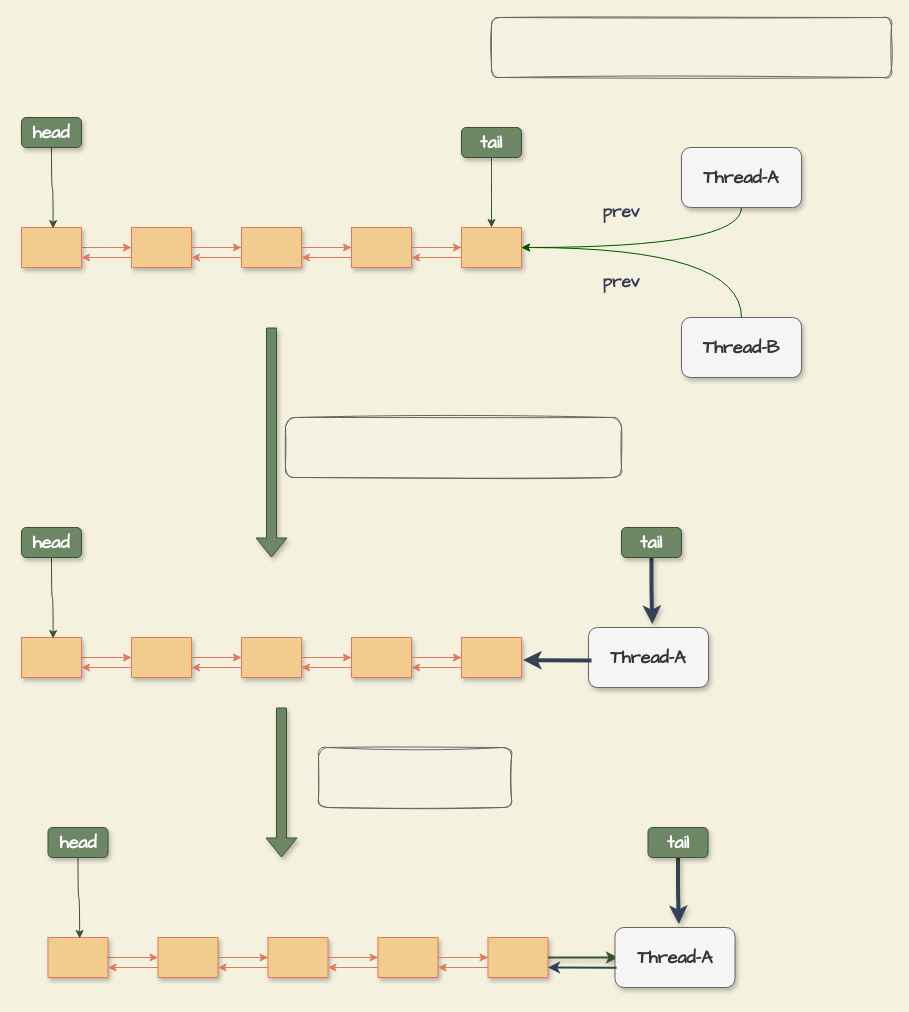
Image size: 909x1012. Some labels were removed from this diagram. The shapes that lost their labels are listed below. From the top down, each one's centre as x and y in pixels, then its label:
[691,47]: A,B线程CAS竞争让自己所在的节点成为tail节点
[453,447]: A线程竞争成功，tail指向A线程所在节点
[415,777]: 旧tail的next指向新节点
